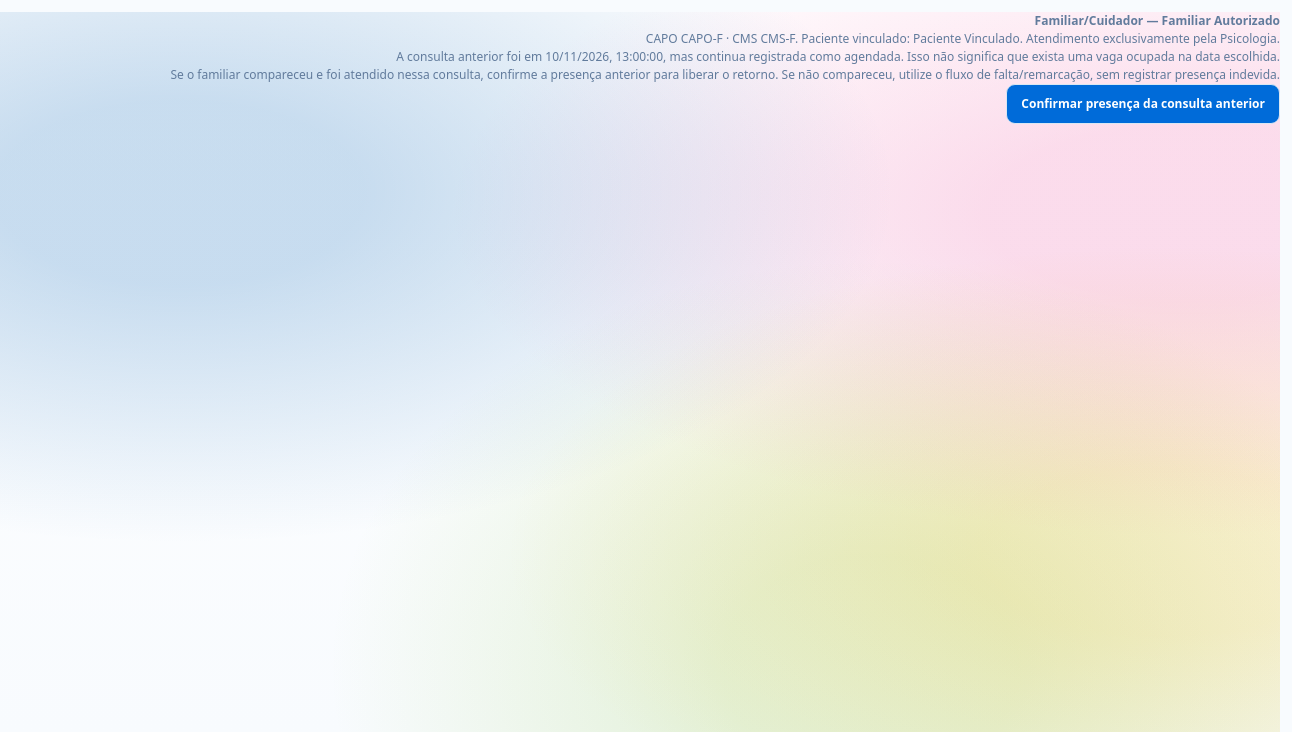
Test: Agendamento familiar pela pesquisa canônica da Agenda › permite ao Administrativo confirmar explicitamente atendimento familiar passado antes do retorno
This screenshot has width=1292, height=732.
Expected: the text "continua registrada como agendada" is shown, [663,48,1280,65]
Expected: the text "Consulta familiar existente:" is not shown
Click the button "Confirmar presença da consulta anterior": (1143, 104) [1006,84,1280,124]
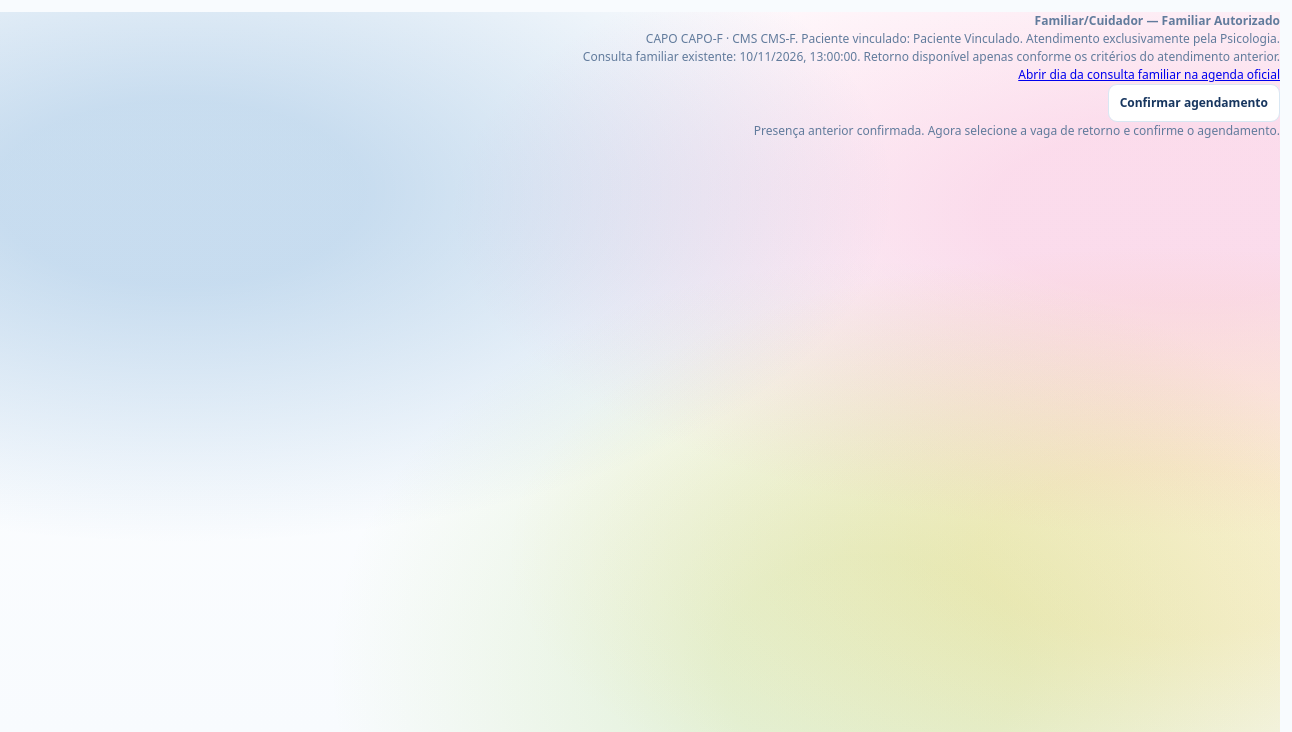
Result: the button "Confirmar agendamento" is shown at [1108,84,1280,122]
